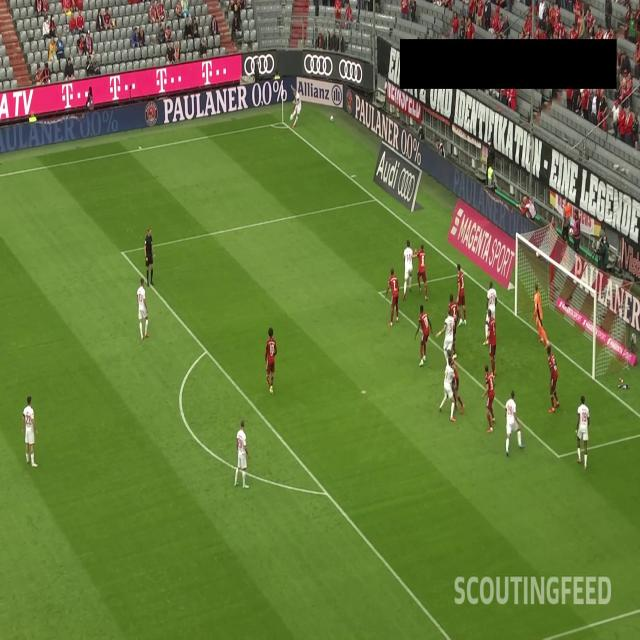ball: (290, 111, 294, 121)
player: (502, 388, 526, 459), (20, 394, 40, 467), (574, 393, 592, 468), (436, 304, 454, 376), (530, 279, 549, 346), (480, 362, 497, 433), (134, 276, 151, 342), (234, 417, 249, 490), (415, 301, 432, 365), (440, 358, 456, 423), (546, 344, 560, 416), (263, 324, 277, 393), (386, 266, 401, 328), (482, 282, 497, 344), (400, 237, 414, 303), (449, 360, 466, 414), (454, 262, 468, 326), (447, 292, 459, 360), (486, 309, 498, 376), (416, 242, 428, 300), (288, 83, 302, 129)
referee: (142, 225, 158, 290)
